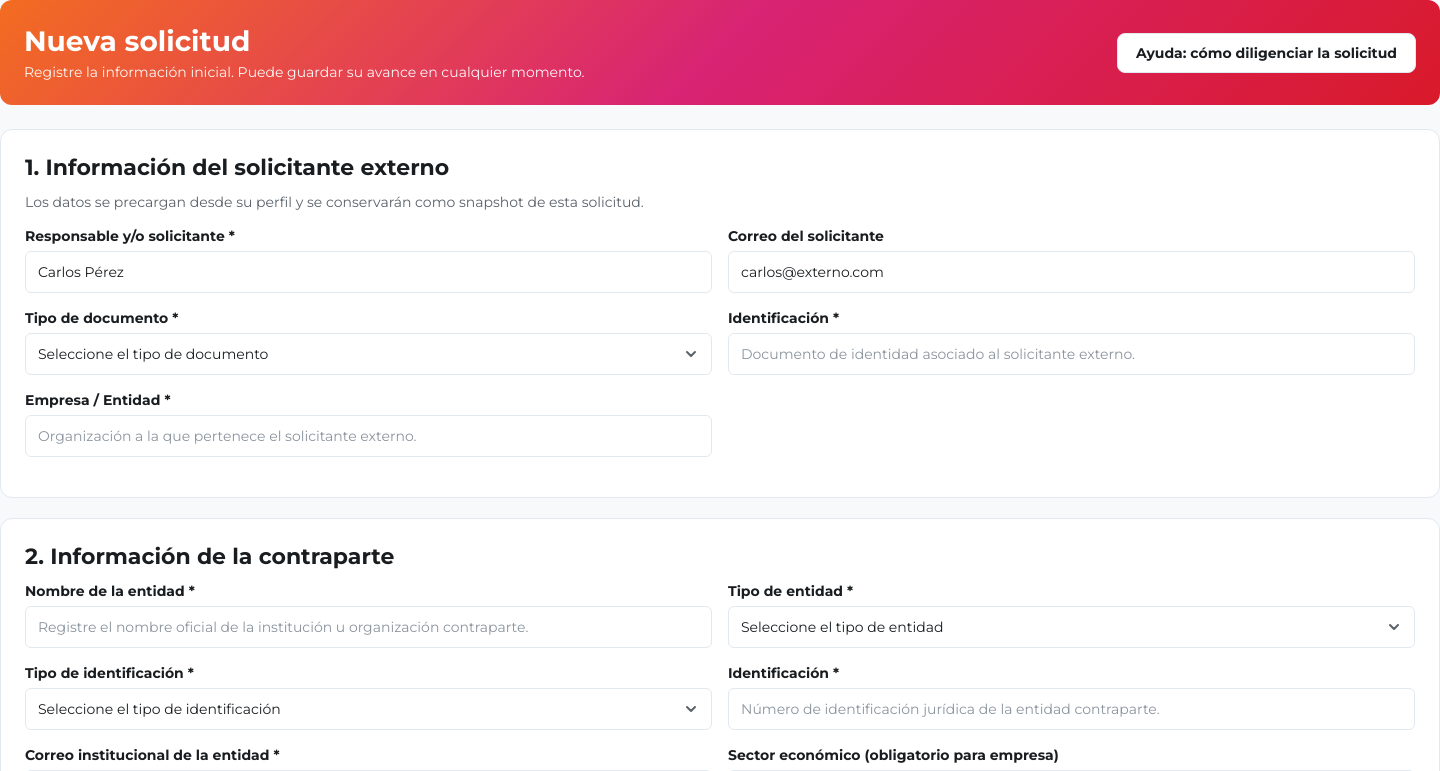
Scenario: validación de formato en el formulario de solicitud (HT14-FE02) › valida la sintaxis del DV aunque el borrador aún no tenga la base
Select "NIT" in the dropdown labelled "Tipo de documento *" at (368, 354), box 25,333 -> 712,375
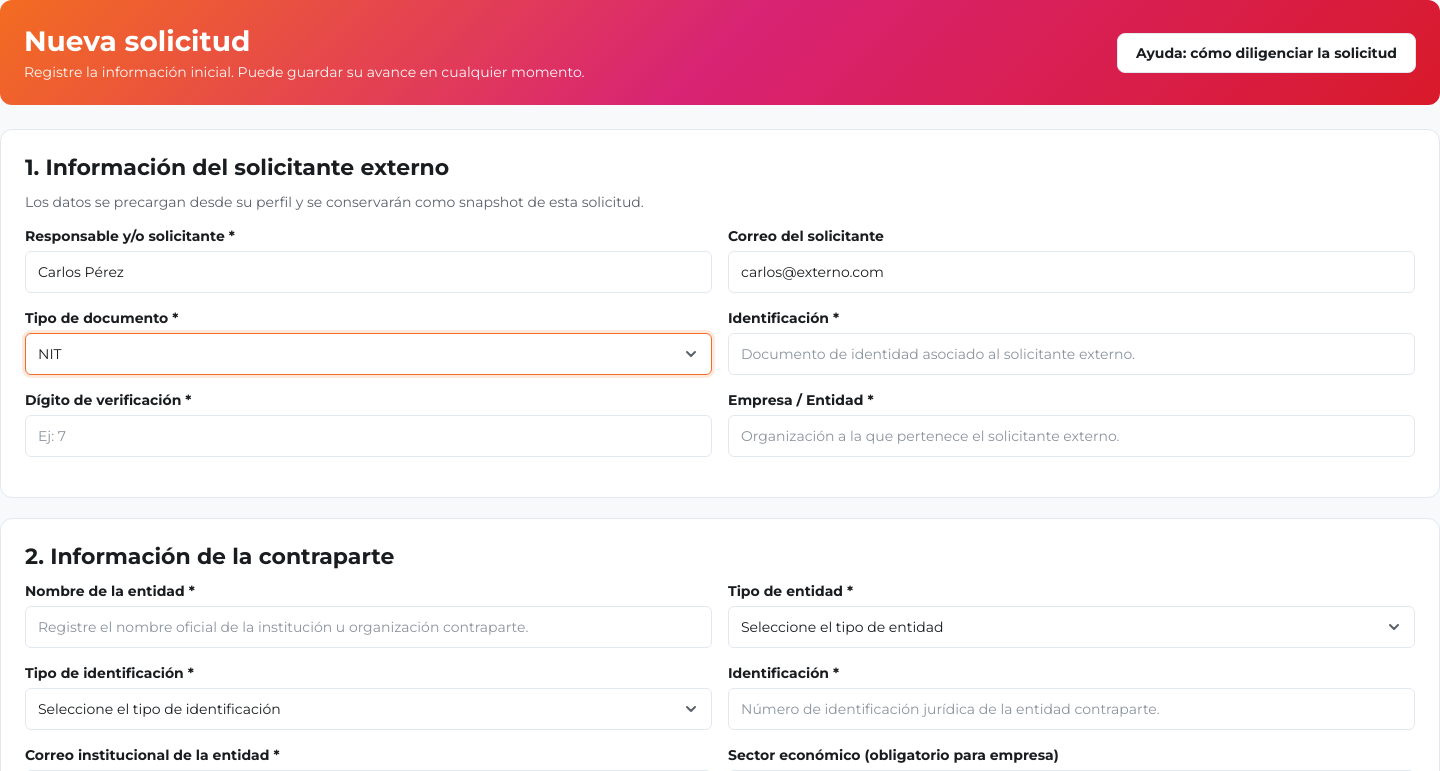
Type "A" into the field labelled "Dígito de verificación *" at (368, 436), box 25,415 -> 712,457
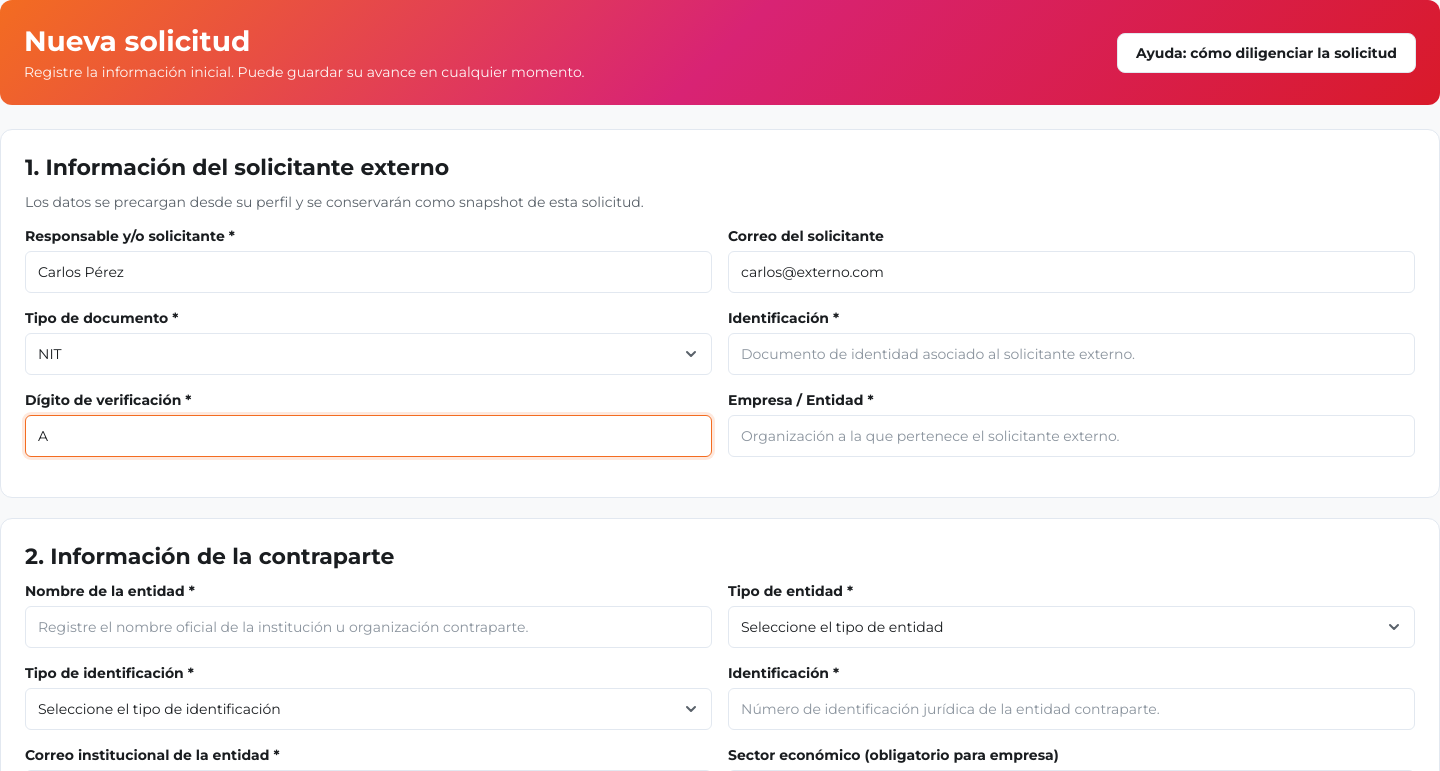
Press Tab
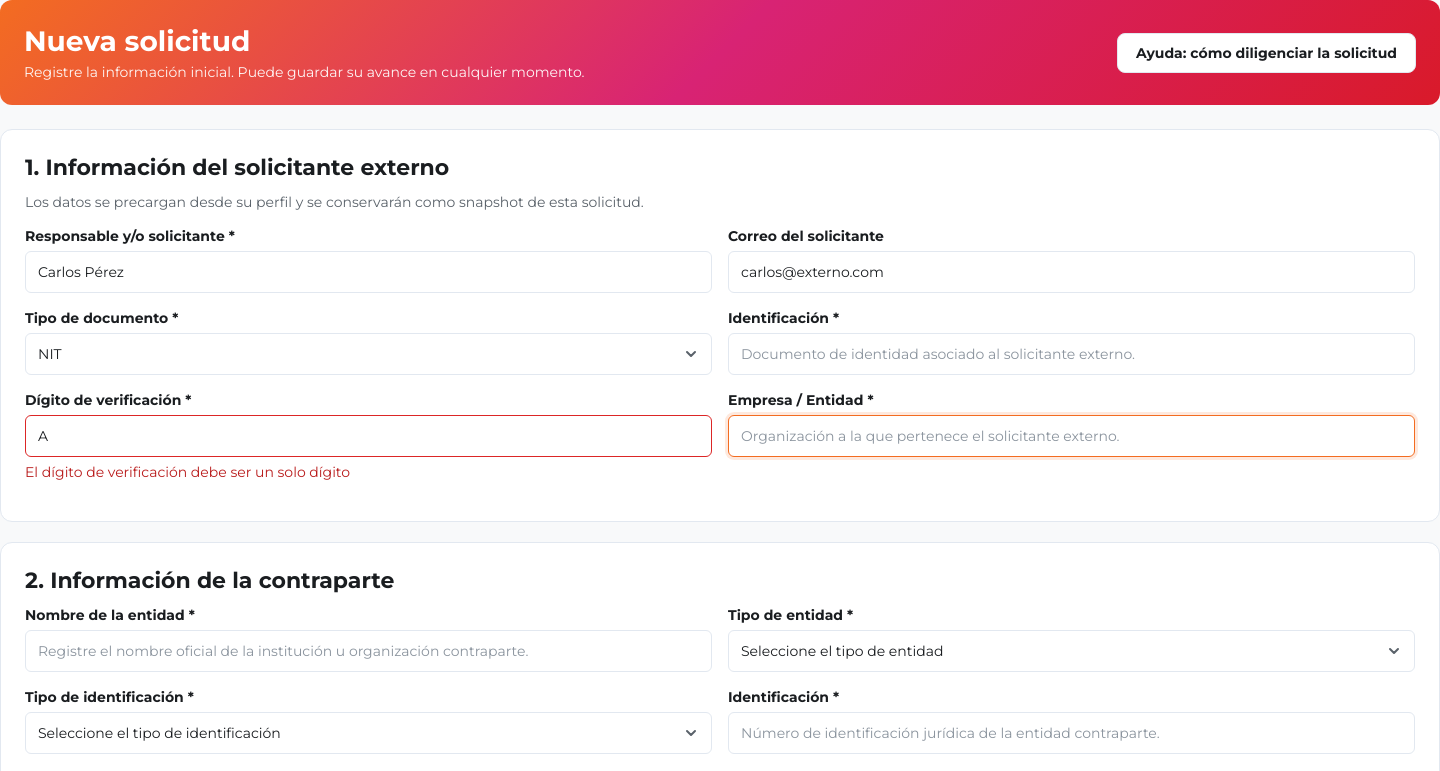
Now the text "El dígito de verificación debe ser un solo dígito" is shown, box 25,463 -> 350,481
